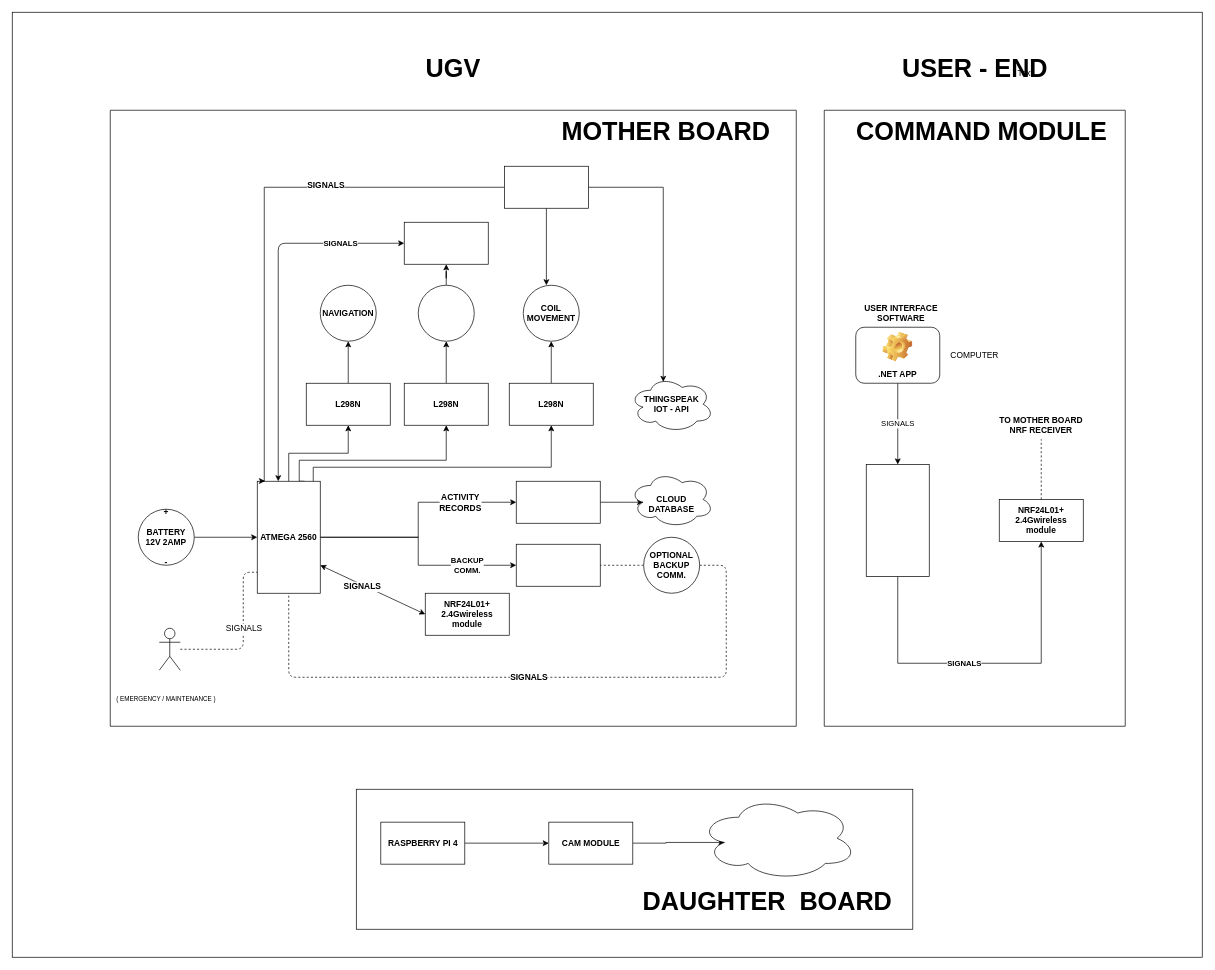
Some shapes in this 1215 by 970 pixel diagram are drawn without their labels. The shapes that lost their labels are listed below. From the top down, each one's centre as x and y in pixels, then its label:
the point at 546,187: COIL FOR DETECTION
the point at 446,243: ARM PART
the point at 446,313: ARM MOVEMENT
the point at 558,502: ESP8266 12E NODEMCU
the point at 897,520: ATMEGA 328 P
the point at 558,565: HC05
the point at 169,649: MANUAL OVERRIDE
the point at 778,838: CLOUD INTEGARTED DISPLAY INTERFACE
